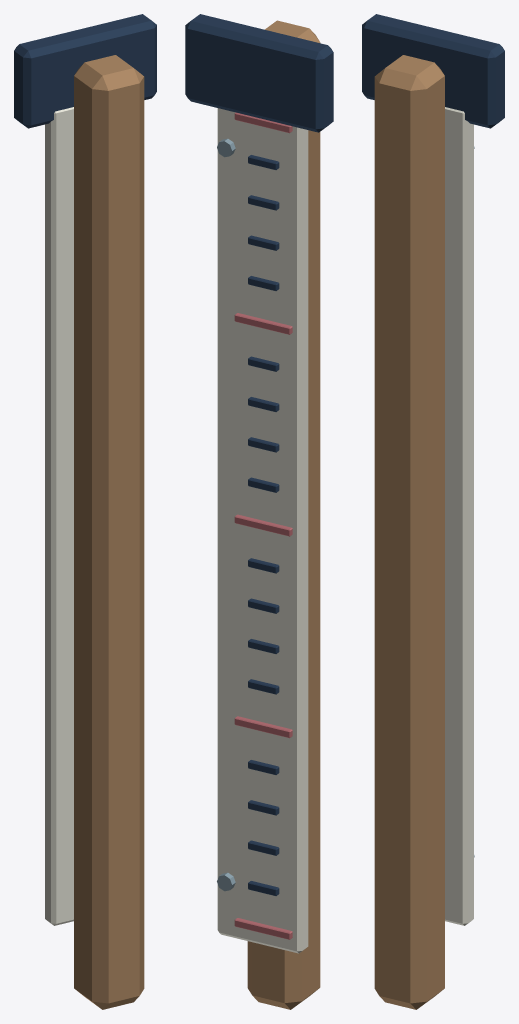
Rendered from tide_gauge.glb.
The picture shows the model from 3 angles, left to right: view 1: azimuth 30°, elevation 25°; view 2: azimuth 150°, elevation 25°; view 3: azimuth 330°, elevation 25°; orthographic projection. The views are drawn at different scales.
Parts seen in each view (by area): view 1: post, gauge_back, gauge_header; view 2: gauge_back, post, gauge_header, graduation (×5); view 3: post, gauge_back, gauge_header.
Part boxes in pixels (<box>): post: <box>74,55,144,1009</box>; gauge_back: <box>45,107,73,925</box>; gauge_header: <box>14,14,156,128</box>; gauge_back: <box>217,108,308,953</box>; post: <box>247,20,320,1009</box>; gauge_header: <box>185,14,333,132</box>; graduation (×5): <box>234,112,292,939</box>; post: <box>374,55,444,1009</box>; gauge_back: <box>445,107,473,925</box>; gauge_header: <box>362,14,504,128</box>.
Bounding box in the file's own units: 0.36 × 2.44 × 0.216.
